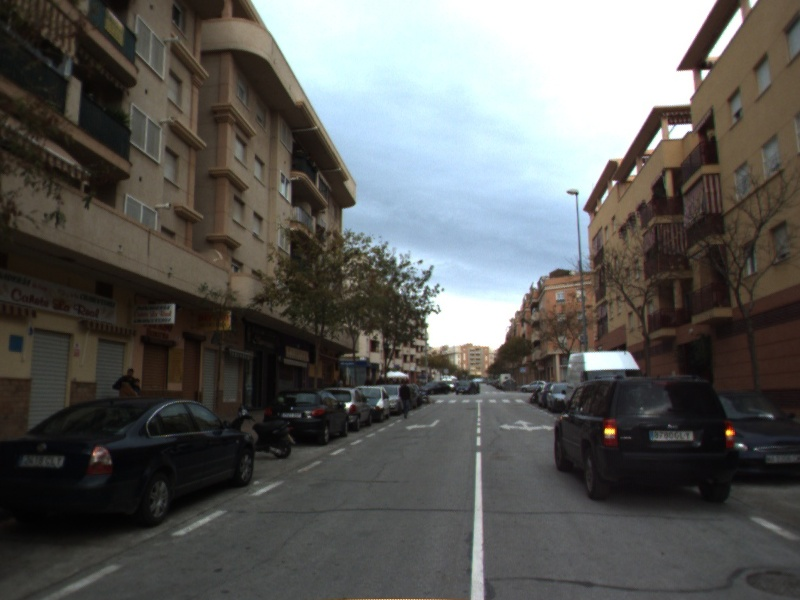STRAIGHT_LEFT_RIGHT: (498, 417, 556, 433)
